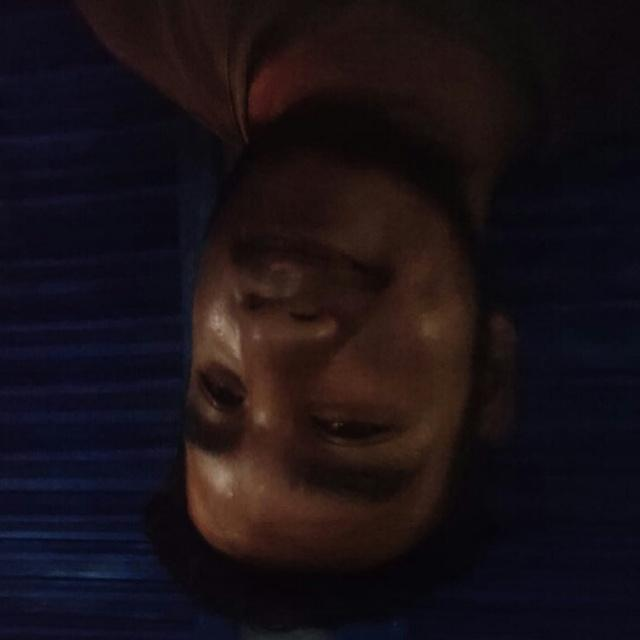Happy: (140, 127, 478, 583)
